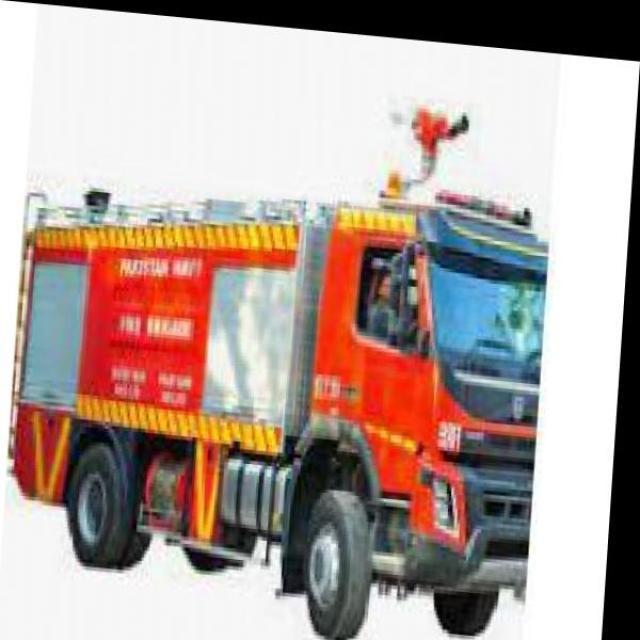emergency: (5, 103, 549, 639)
